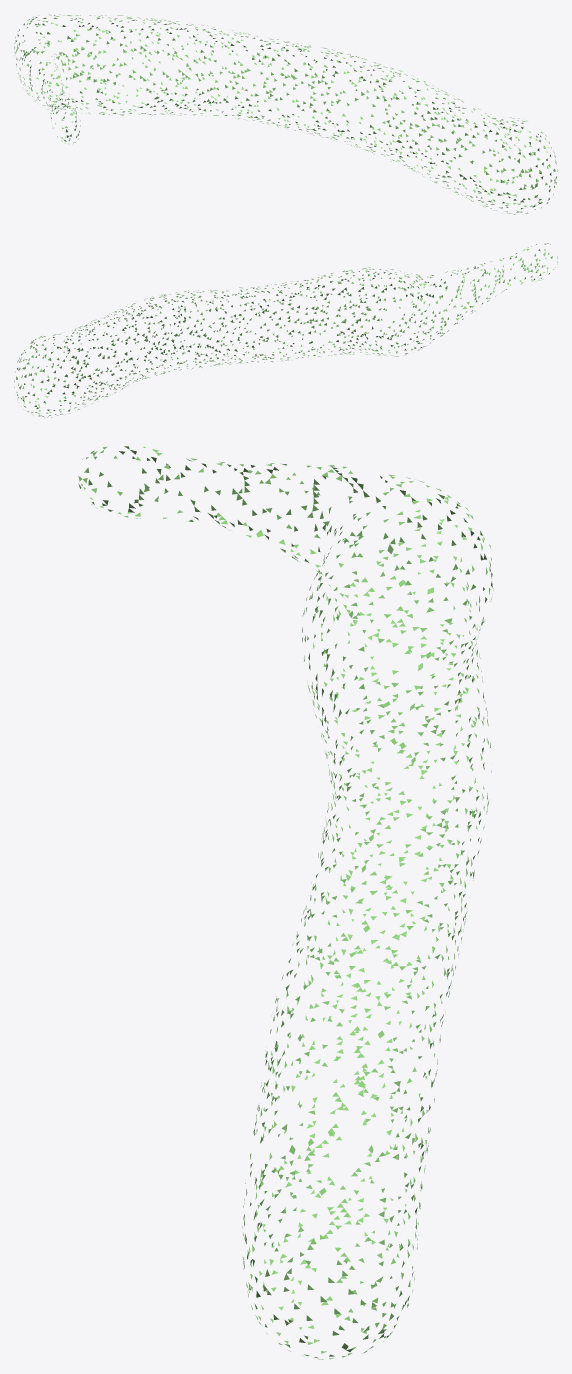
File: morph_015.glb
3 renders of one model, top to bottom at view 1: azimuth 30°, elevation 25°; view 2: azimuth 150°, elevation 25°; view 3: azimuth 270°, elevation 25°, orthographic. The views are drawn at different scales.
Size of the model in its own units: 115 by 56.73 by 43.69.
